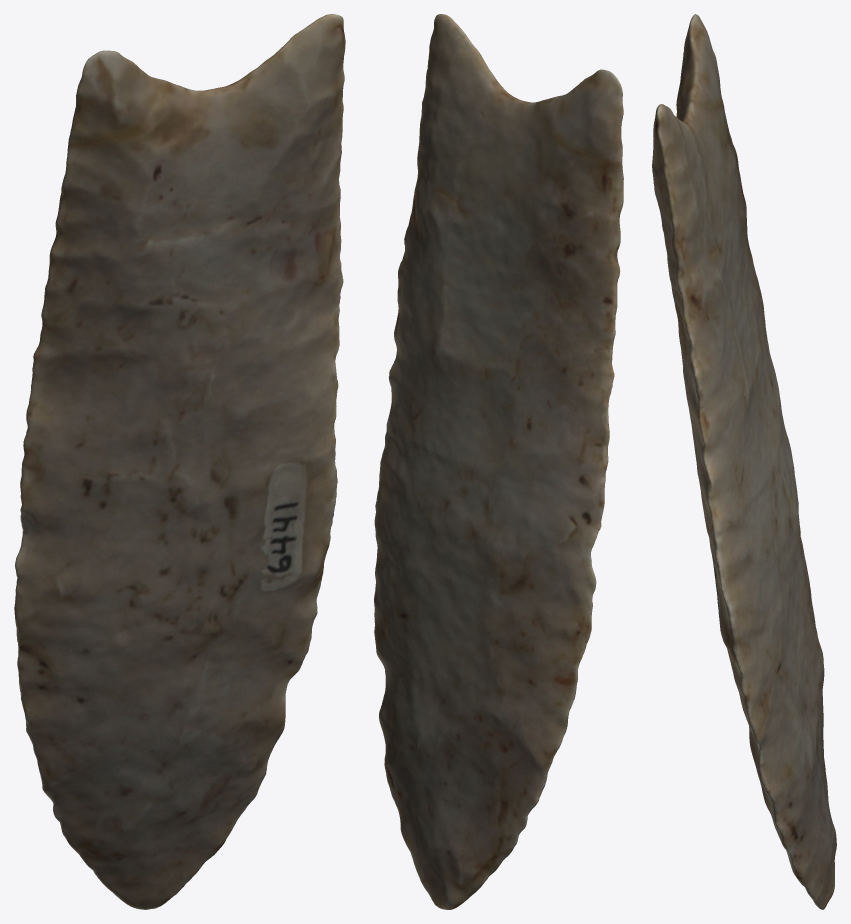
The picture shows the model from 3 angles, left to right: view 1: azimuth 30°, elevation 25°; view 2: azimuth 150°, elevation 25°; view 3: azimuth 270°, elevation 25°; orthographic projection. The views are drawn at different scales.
Parts seen in each view (by area): view 1: Node; view 2: Node; view 3: Node.
Part boxes in pixels (x1=…): Node: x1=14, y1=14, x2=345, y2=909; Node: x1=374, y1=14, x2=623, y2=909; Node: x1=652, y1=14, x2=836, y2=909.
Size of the model in its own units: 0.4819 by 1.5 by 0.2995.
1 material, 1 textured.
